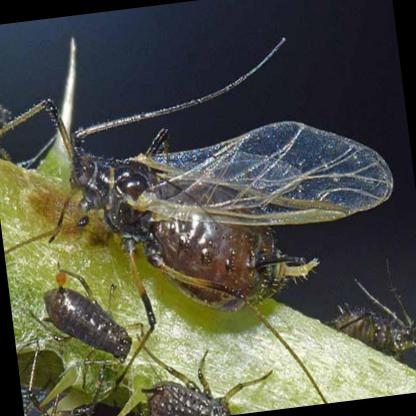uroleucon compositae: (71, 35, 394, 324)
